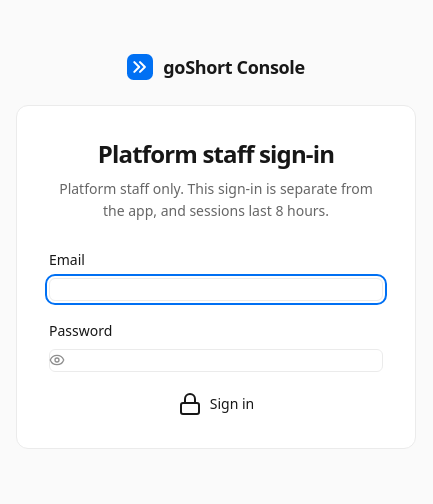
Scenario: access › shows the API’s message for a suspended account
The width and height of the screenshot is (433, 504).
Type "a@example.com" into the field labelled "Email" at {"x": 216, "y": 289}, box x1=49 y1=278 x2=383 y2=300
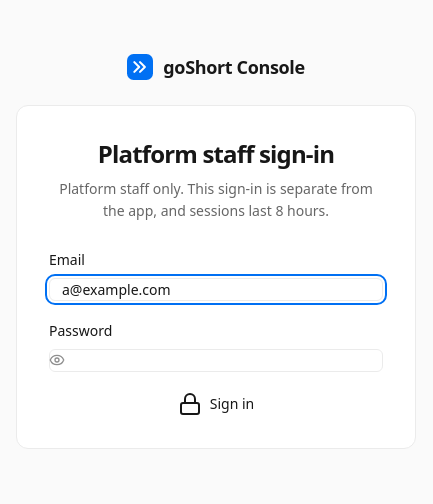
Type "whatever-password" into the password field labelled "Password" at {"x": 216, "y": 360}, box x1=49 y1=348 x2=383 y2=372
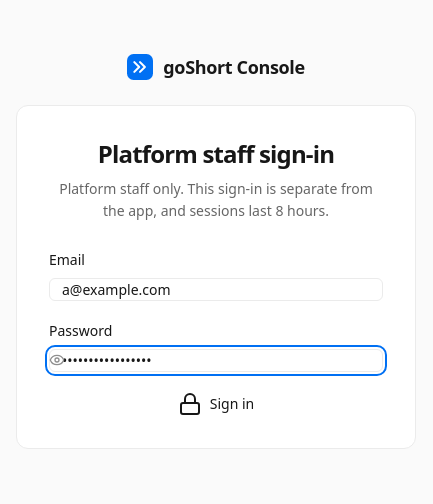
Click the button "Sign in" at {"x": 216, "y": 404}, box x1=49 y1=392 x2=383 y2=416
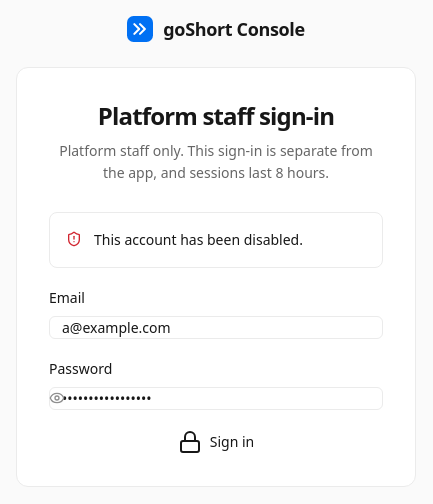
Result: the message shows "has been disabled" at x1=94 y1=230 x2=303 y2=248
